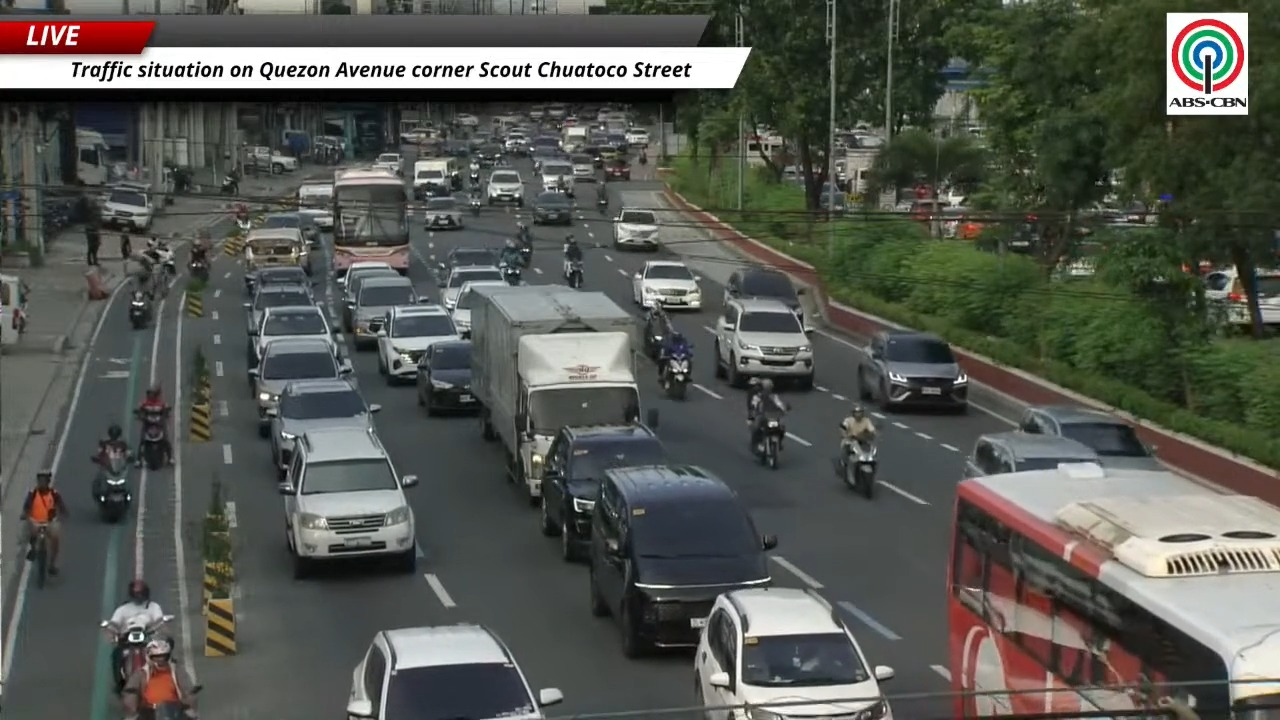bus: (947, 463, 1279, 719), (331, 167, 409, 277)
car: (587, 465, 775, 657), (694, 588, 894, 719), (278, 426, 417, 578), (346, 624, 562, 719), (540, 424, 667, 561), (268, 379, 380, 479), (248, 338, 351, 437), (1019, 404, 1165, 470), (715, 298, 814, 389), (857, 330, 968, 411), (371, 304, 460, 383), (963, 431, 1099, 478), (247, 304, 334, 366), (724, 267, 807, 328), (351, 275, 419, 349), (415, 340, 478, 415), (341, 263, 402, 332), (244, 284, 314, 337), (633, 260, 701, 309), (448, 280, 506, 337), (243, 226, 310, 274), (441, 266, 503, 310), (1204, 268, 1251, 325), (100, 187, 154, 231), (338, 261, 398, 300), (258, 213, 319, 246), (613, 208, 659, 251), (436, 246, 499, 277), (244, 267, 312, 295), (539, 157, 574, 196), (532, 192, 573, 225), (486, 170, 523, 206), (424, 198, 462, 229), (298, 207, 333, 231), (570, 152, 595, 181), (472, 143, 503, 166), (599, 136, 626, 162), (601, 157, 630, 180), (373, 153, 402, 174), (606, 133, 630, 157), (580, 143, 603, 168), (503, 131, 527, 153), (625, 127, 649, 147), (455, 113, 479, 127), (546, 104, 567, 120)
motorcycle: (100, 614, 173, 693), (94, 448, 131, 523), (836, 441, 877, 499), (137, 409, 167, 471), (753, 411, 785, 468), (662, 350, 691, 399), (145, 245, 176, 282), (138, 702, 193, 719), (129, 290, 150, 329), (158, 247, 177, 280), (189, 256, 209, 282), (565, 261, 583, 288), (500, 265, 521, 285), (220, 173, 239, 195), (235, 208, 251, 232), (518, 241, 532, 267), (469, 196, 481, 216), (597, 192, 608, 213), (469, 171, 480, 187), (639, 151, 647, 164)
truck: (471, 285, 641, 504), (242, 146, 298, 174)
